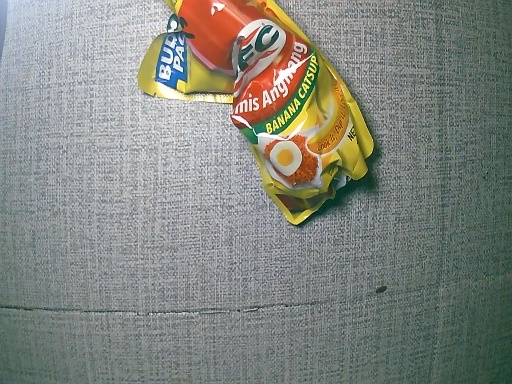plastic: (133, 1, 376, 226)
